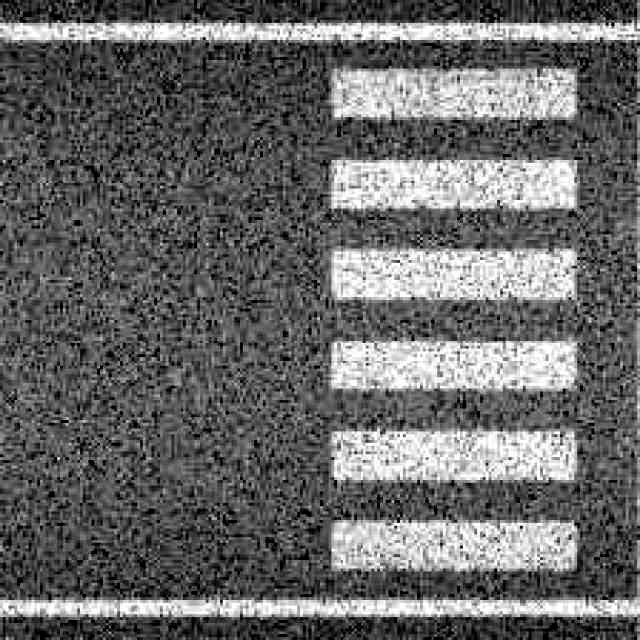crosswalk: (328, 53, 581, 577)
